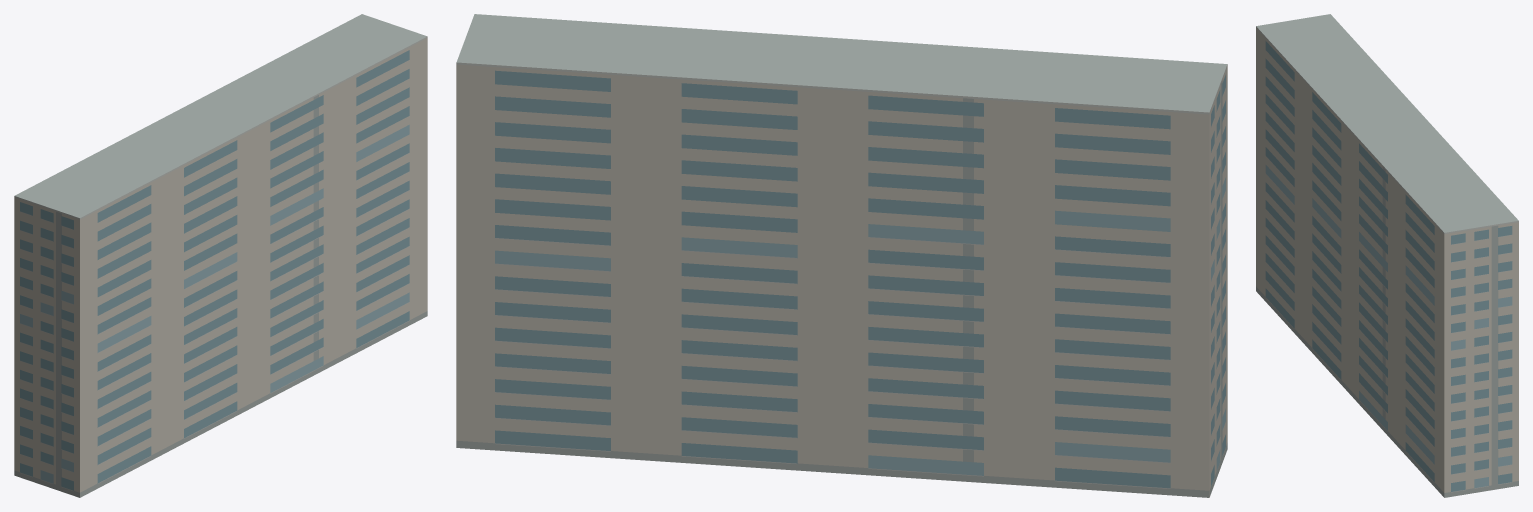
Rendered from residential-0948d587-f040-4b9d-aa4f-926f615e06c3.glb.
3 views of the same model, side by side, from view 1: azimuth 30°, elevation 25°; view 2: azimuth 150°, elevation 25°; view 3: azimuth 270°, elevation 25° (orthographic). The views are drawn at different scales.
Parts seen in each view (by area): view 1: residential-0948d587-f040-4b9d-aa4f-926f615e06c3.tmp; view 2: residential-0948d587-f040-4b9d-aa4f-926f615e06c3.tmp; view 3: residential-0948d587-f040-4b9d-aa4f-926f615e06c3.tmp.
Boxes of the visible parts, x1=… form: residential-0948d587-f040-4b9d-aa4f-926f615e06c3.tmp: x1=14, y1=14, x2=427, y2=497; residential-0948d587-f040-4b9d-aa4f-926f615e06c3.tmp: x1=456, y1=14, x2=1227, y2=497; residential-0948d587-f040-4b9d-aa4f-926f615e06c3.tmp: x1=1256, y1=14, x2=1518, y2=497.
Size of the model in its own units: 81.02 by 45.75 by 41.13.
